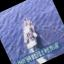fishing boat: (10, 8, 45, 53)
